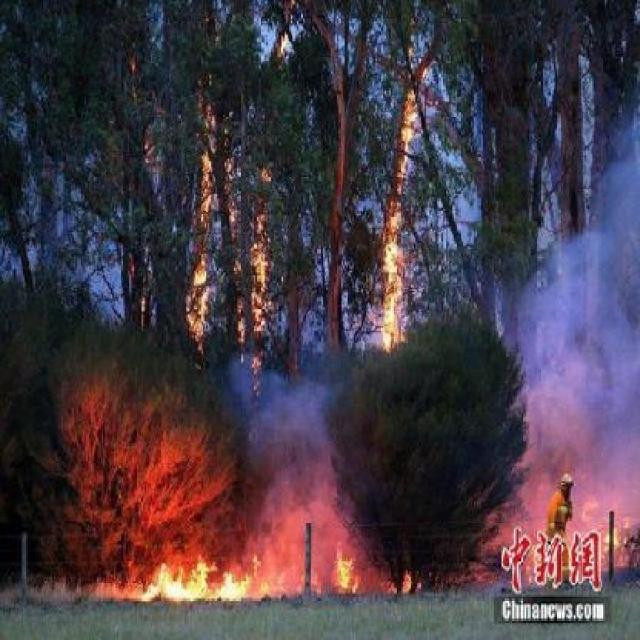Fire: (118, 35, 474, 363), (125, 500, 428, 611), (599, 502, 633, 572)
